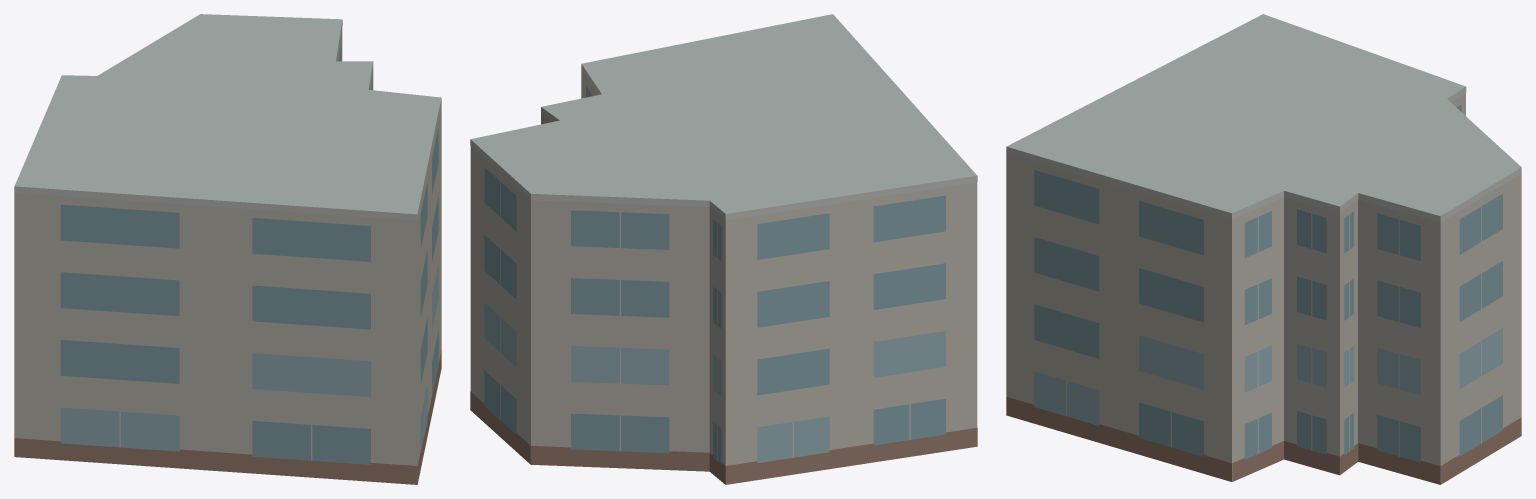
Rendered from survey-upis-32931544.glb.
The picture shows the model from 3 angles, left to right: view 1: azimuth 30°, elevation 25°; view 2: azimuth 150°, elevation 25°; view 3: azimuth 270°, elevation 25°; orthographic projection.
Parts seen in each view (by area): view 1: survey-upis-32931544.tmp; view 2: survey-upis-32931544.tmp; view 3: survey-upis-32931544.tmp.
Part boxes in pixels (x1=…): survey-upis-32931544.tmp: x1=14, y1=14, x2=441, y2=484; survey-upis-32931544.tmp: x1=470, y1=14, x2=977, y2=484; survey-upis-32931544.tmp: x1=1006, y1=14, x2=1521, y2=484.
Bounding box in the file's own units: 16.79 × 10.4 × 18.08.
